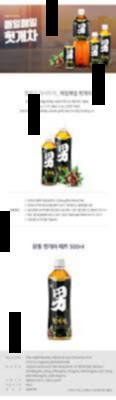heotgaecha: (47, 257, 73, 341), (55, 122, 72, 184), (42, 130, 58, 185)
